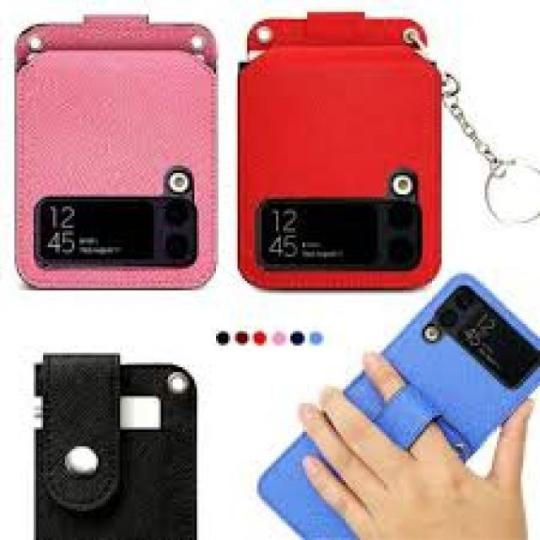phone: (248, 273, 540, 540), (232, 13, 456, 301), (10, 19, 226, 312)
